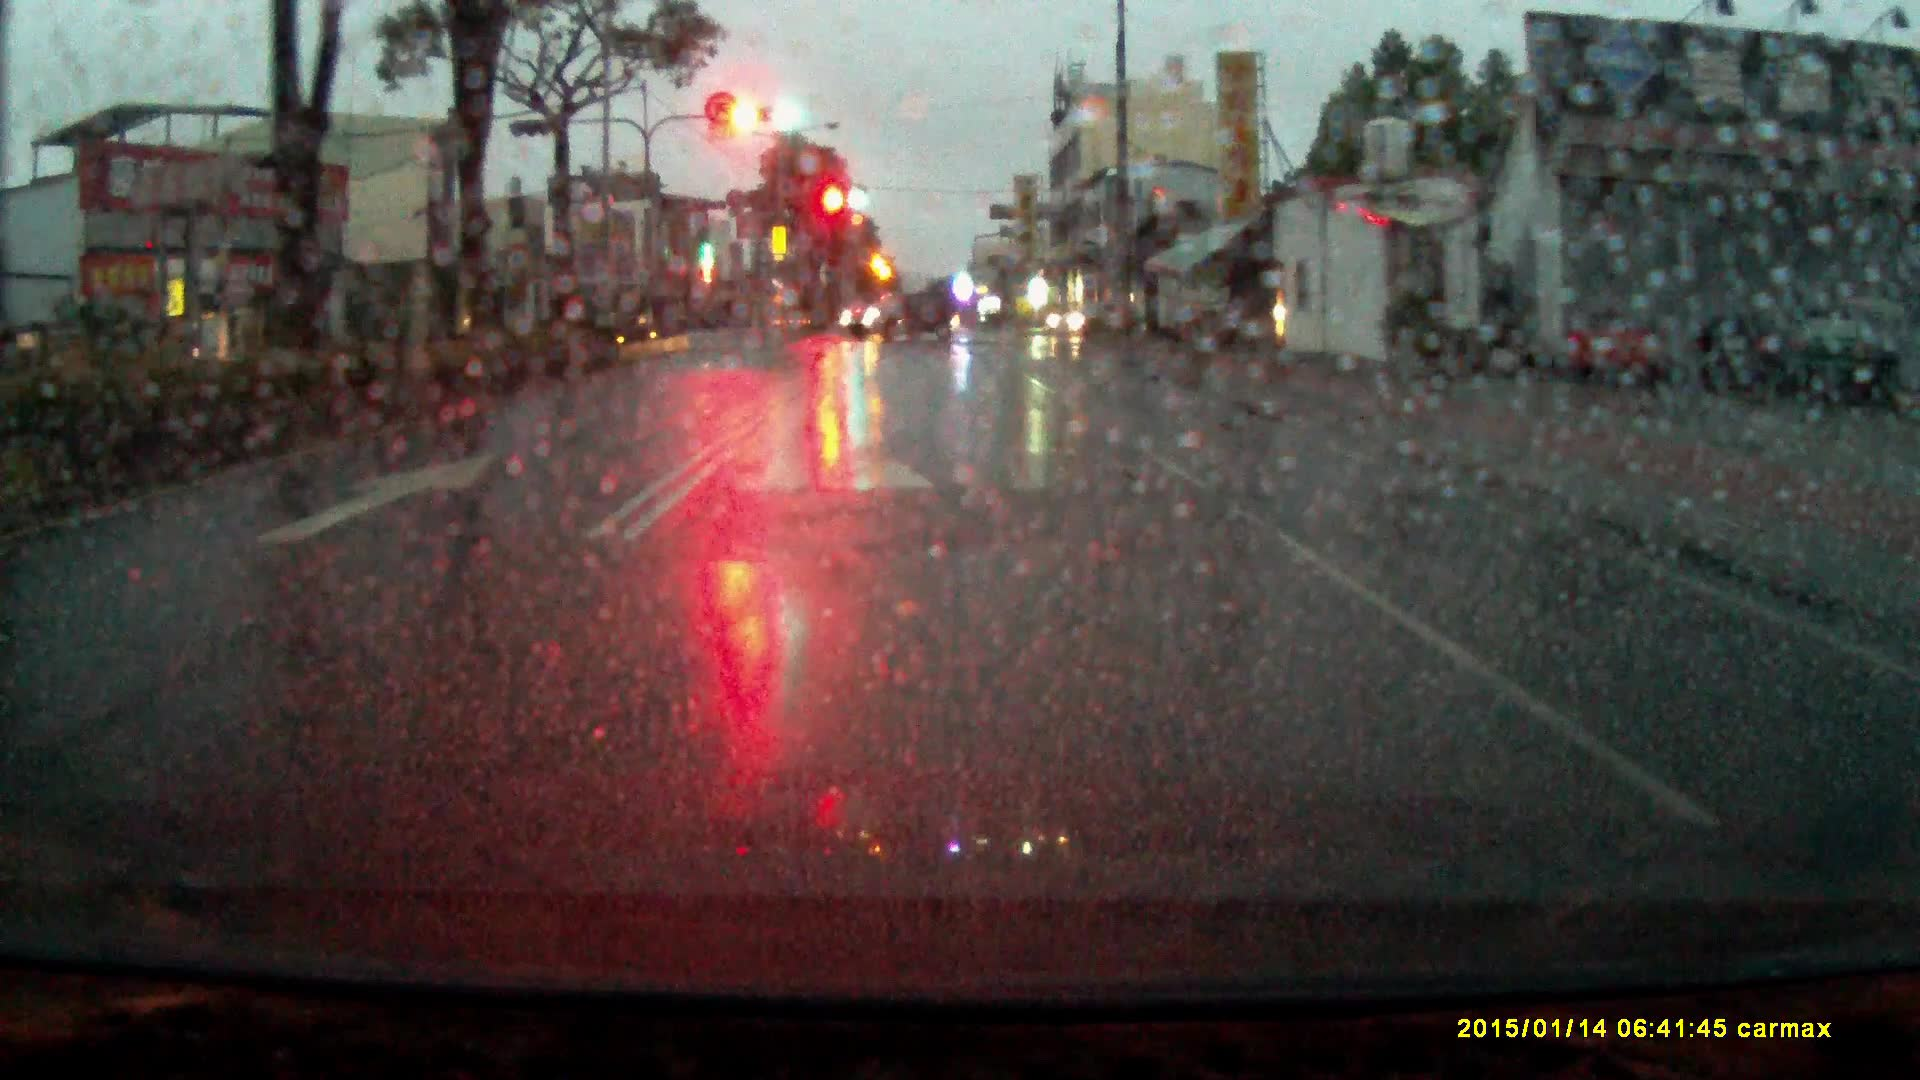vehicle: (840, 285, 961, 348), (1048, 298, 1141, 342)
